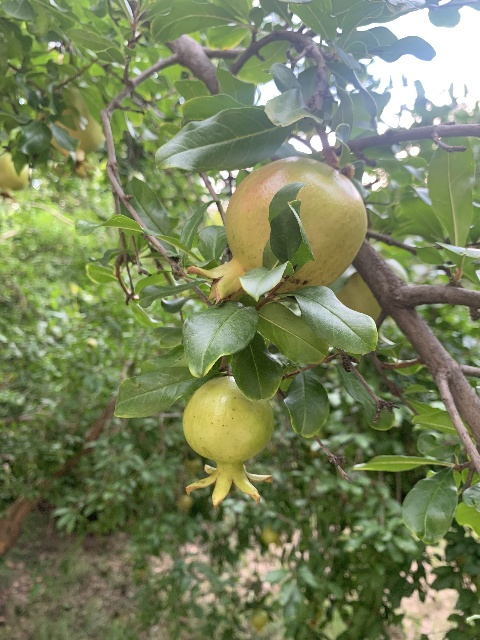mid-growth: (185, 157, 368, 304), (182, 375, 274, 511), (49, 89, 104, 170), (0, 152, 29, 202)
